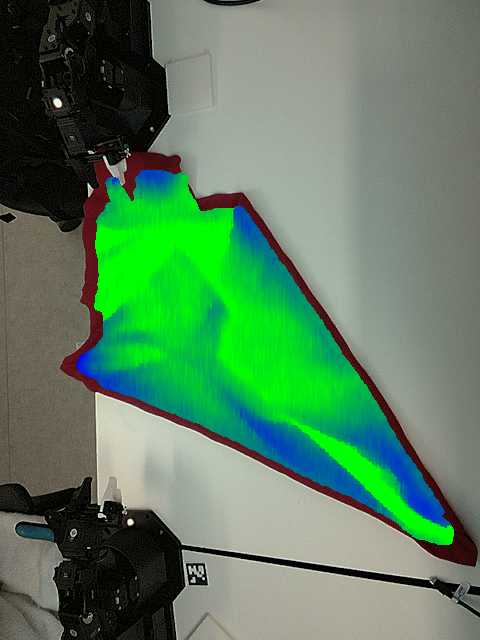V: (160, 238, 207, 286), (198, 292, 239, 335)
